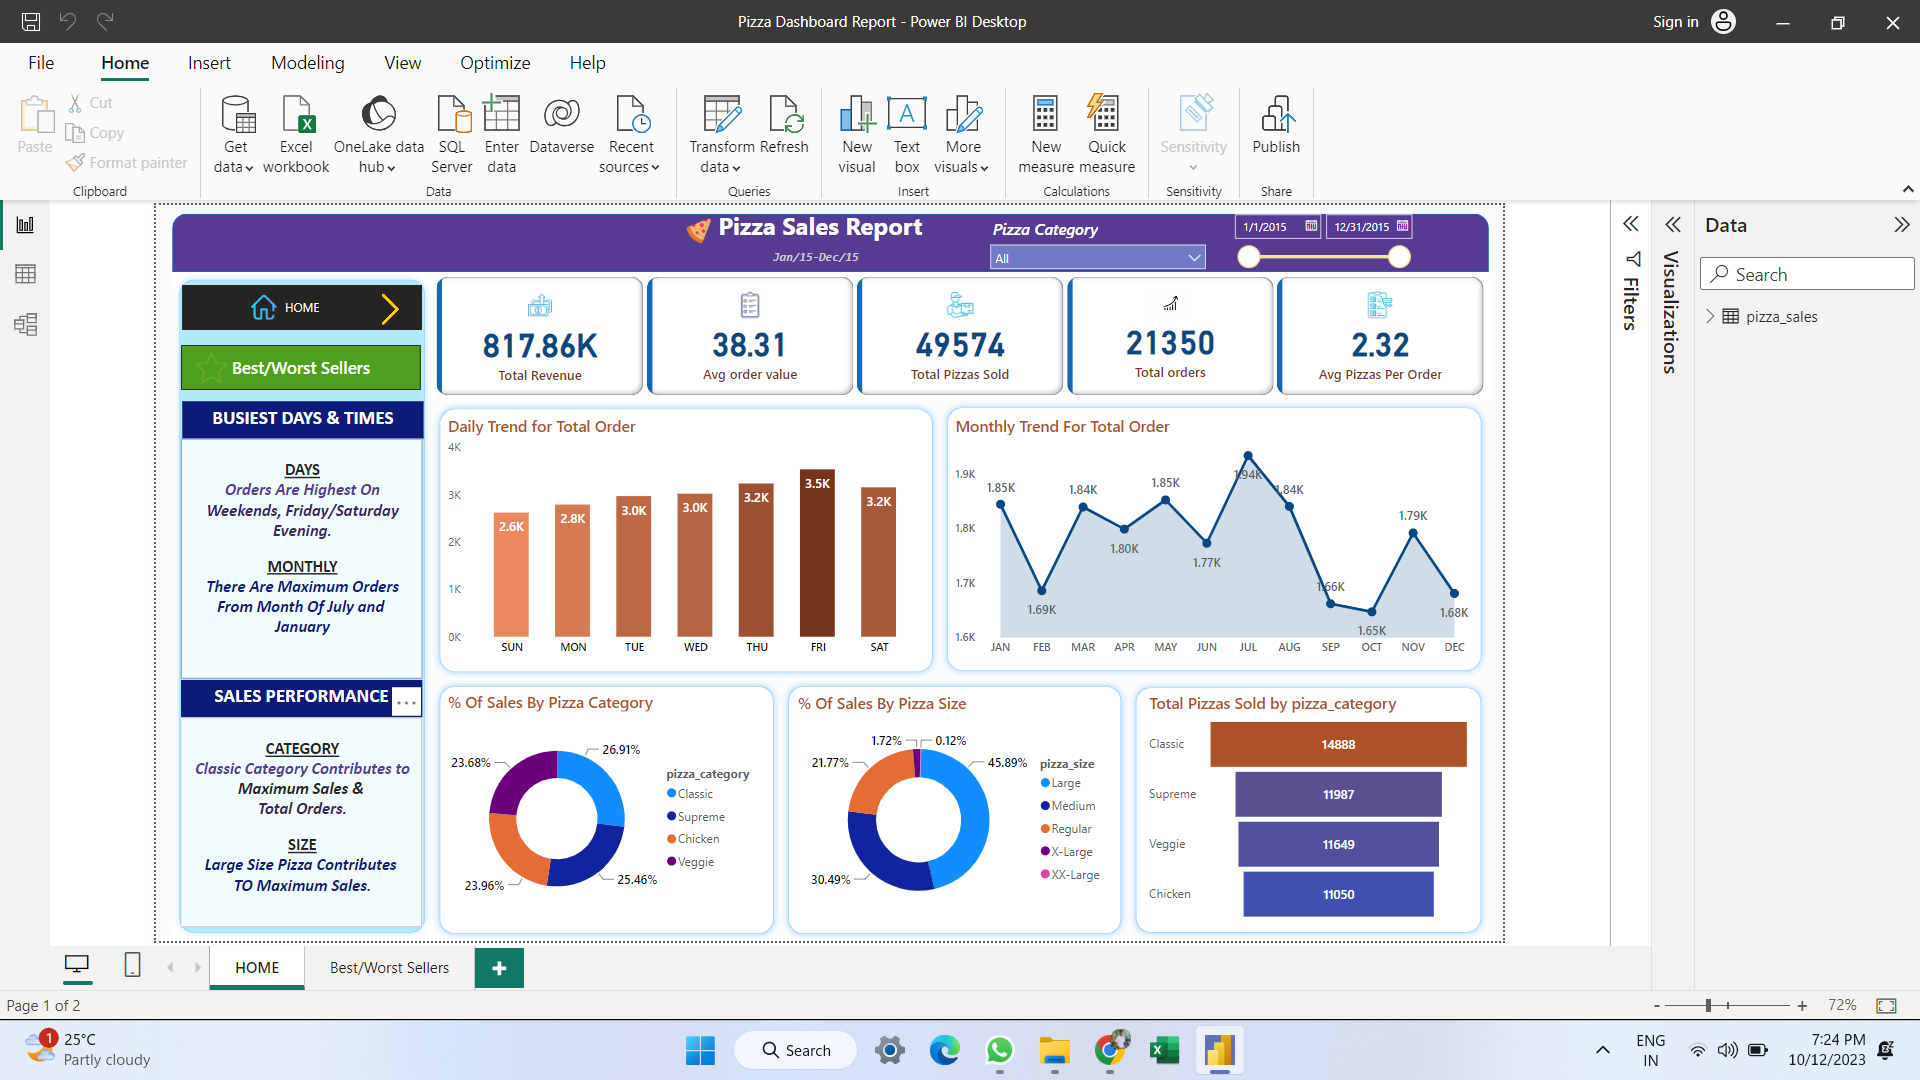

Layout of this report page (visuals, bound fields, positions):
{"tool":"powerbi","page":{"name":"HOME","canvas":[1500,820],"ordinal":0},"visuals":[{"type":"shape","box":[18.1,75.2,289.6,743.4],"z":0},{"type":"cardVisual","fields":{"Data":["pizza_sales.Total Revenue","pizza_sales.Avg order value","pizza_sales.Total Pizzas Sold","pizza_sales.Total orders","pizza_sales.Avg Pizzas Per Order"]},"box":[307.5,75,1177.5,142.5],"z":1000},{"type":"shape","box":[18.8,10,1466.2,65],"z":2000},{"type":"textbox","box":[573.8,0,332.5,67.5],"z":3000},{"type":"textbox","box":[682.5,42.5,113.8,30],"z":4000},{"type":"image","box":[583.8,10,42.5,37.5],"z":5000},{"type":"shape","box":[307.1,218.6,565.7,310],"z":6000},{"type":"columnChart","title":"Daily Trend for Total Order","fields":{"Category":["pizza_sales.Order day"],"Y":["pizza_sales.Total orders"]},"box":[320,234.3,538.6,277.1],"z":7000},{"type":"shape","box":[872.9,217.1,611.4,310],"z":8000},{"type":"areaChart","title":"Monthly Trend For Total Order","fields":{"Category":["pizza_sales.Order Month"],"Y":["pizza_sales.Total orders"]},"box":[885.7,234.3,584.3,277.1],"z":9000},{"type":"shape","box":[307.7,527.6,388.4,292.4],"z":10000},{"type":"shape","box":[696.1,527.6,387,292.4],"z":11000},{"type":"donutChart","title":"% Of Sales By Pizza Category","fields":{"Category":["pizza_sales.pizza_category"],"Y":["pizza_sales.Total Revenue"]},"box":[320.2,541.6,362,261.7],"z":12000},{"type":"donutChart","title":"% Of Sales By Pizza Size","fields":{"Y":["pizza_sales.Total Revenue"],"Category":["pizza_sales.pizza_size"]},"box":[710,543,359.2,261.7],"z":13000},{"type":"shape","box":[1083.1,529,401,289.6],"z":14000},{"type":"funnel","fields":{"Category":["pizza_sales.pizza_category"],"Y":["pizza_sales.Total Pizzas Sold"]},"box":[1101.2,543,368.9,260.3],"z":15000},{"type":"textbox","box":[29.2,218.6,268.7,41.8],"z":16000},{"type":"textbox","box":[27.8,260.3,268.7,267.3],"z":17000},{"type":"textbox","box":[27.8,529,268.7,41.8],"z":18000},{"type":"textbox","box":[27.8,570.8,268.7,233.9],"z":19000},{"type":"slicer","fields":{"Values":["pizza_sales.pizza_category"]},"box":[918.8,9.7,260.3,64],"z":20000},{"type":"slicer","fields":{"Values":["pizza_sales.order_date"]},"box":[1188.9,0,217.2,89.1],"z":21000},{"type":"pageNavigator","box":[29.2,89.1,267.3,50.1],"z":22000},{"type":"pageNavigator","box":[27.8,155.9,267.3,50.1],"z":23000},{"type":"image","box":[238.1,93.3,45.9,45.9],"z":24000},{"type":"image","box":[100.2,94.7,40.4,39],"z":25000},{"type":"image","box":[39,155.9,45.9,50.1],"z":26000}]}

Visuals, with their boxes on the page's 1500x820 design canvas (x1, y1, x2, y2). These are canvas units, not pixel positions in the 1920x1080 screenshot, which may show the page scaled, cropped or inside an application window:
shape: [18, 75, 308, 819]
cardVisual - pizza_sales.Total Revenue x pizza_sales.Avg order value: [308, 75, 1485, 218]
shape: [19, 10, 1485, 75]
textbox: [574, 0, 906, 68]
textbox: [682, 42, 796, 72]
image: [584, 10, 626, 48]
shape: [307, 219, 873, 529]
"Daily Trend for Total Order" columnChart: [320, 234, 859, 511]
shape: [873, 217, 1484, 527]
"Monthly Trend For Total Order" areaChart: [886, 234, 1470, 511]
shape: [308, 528, 696, 820]
shape: [696, 528, 1083, 820]
"% Of Sales By Pizza Category" donutChart: [320, 542, 682, 803]
"% Of Sales By Pizza Size" donutChart: [710, 543, 1069, 805]
shape: [1083, 529, 1484, 819]
funnel - pizza_sales.pizza_category x pizza_sales.Total Pizzas Sold: [1101, 543, 1470, 803]
textbox: [29, 219, 298, 260]
textbox: [28, 260, 296, 528]
textbox: [28, 529, 296, 571]
textbox: [28, 571, 296, 805]
slicer - pizza_sales.pizza_category: [919, 10, 1179, 74]
slicer - pizza_sales.order_date: [1189, 0, 1406, 89]
pageNavigator: [29, 89, 296, 139]
pageNavigator: [28, 156, 295, 206]
image: [238, 93, 284, 139]
image: [100, 95, 141, 134]
image: [39, 156, 85, 206]
